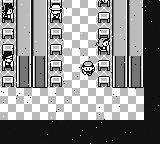main: (81, 61, 95, 75)
no-caminable: (1, 1, 160, 143), (15, 0, 31, 56), (32, 0, 47, 56), (112, 0, 127, 56), (129, 0, 143, 56), (112, 56, 127, 88), (129, 56, 143, 87), (33, 56, 46, 88), (18, 56, 31, 87)
npc: (96, 37, 110, 52), (2, 4, 14, 20), (50, 5, 62, 20), (2, 52, 14, 67), (98, 0, 110, 4)
